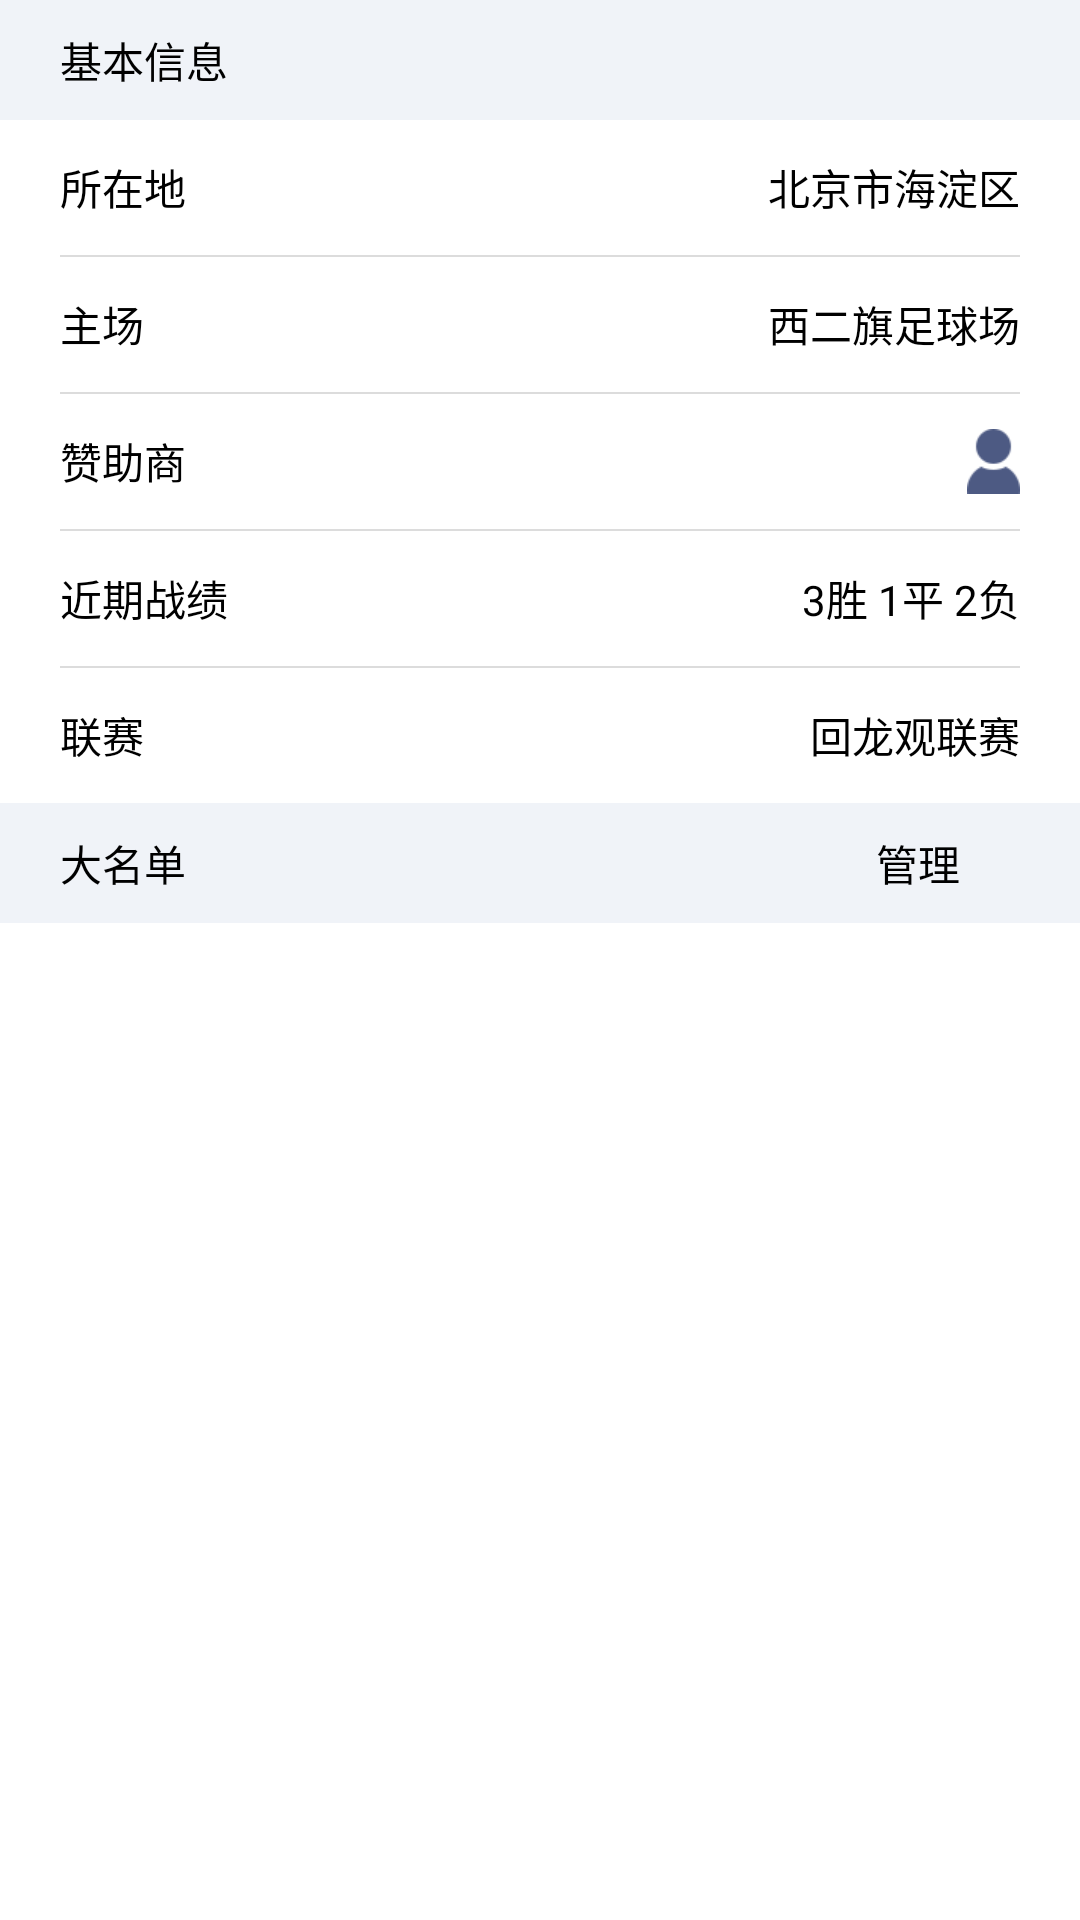

Icons on this 1080×1920 Android screen, each with the point to tap as point (x, y):
profile: point (993, 461)
